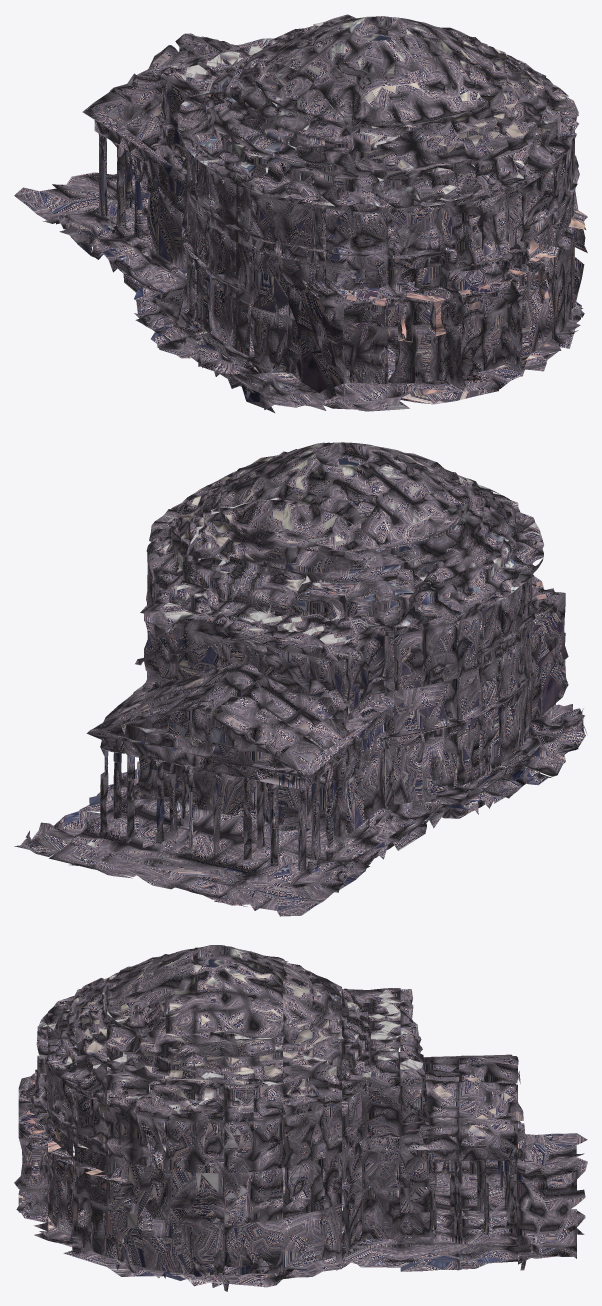
The model's file is r106_pantheon.glb.
3 renders of one model, top to bottom at view 1: azimuth 30°, elevation 25°; view 2: azimuth 150°, elevation 25°; view 3: azimuth 270°, elevation 25°, orthographic. The views are drawn at different scales.
Visible parts, largest first — view 1: pantheon.002_0; view 2: pantheon.002_0; view 3: pantheon.002_0.
Boxes of the visible parts, x1,y1,x2,y2 form: pantheon.002_0: [14, 14, 587, 412]; pantheon.002_0: [14, 442, 587, 916]; pantheon.002_0: [14, 945, 587, 1291].
Bounding box in the file's own units: 6.64 × 4.75 × 9.46.
1 material, 1 textured.
